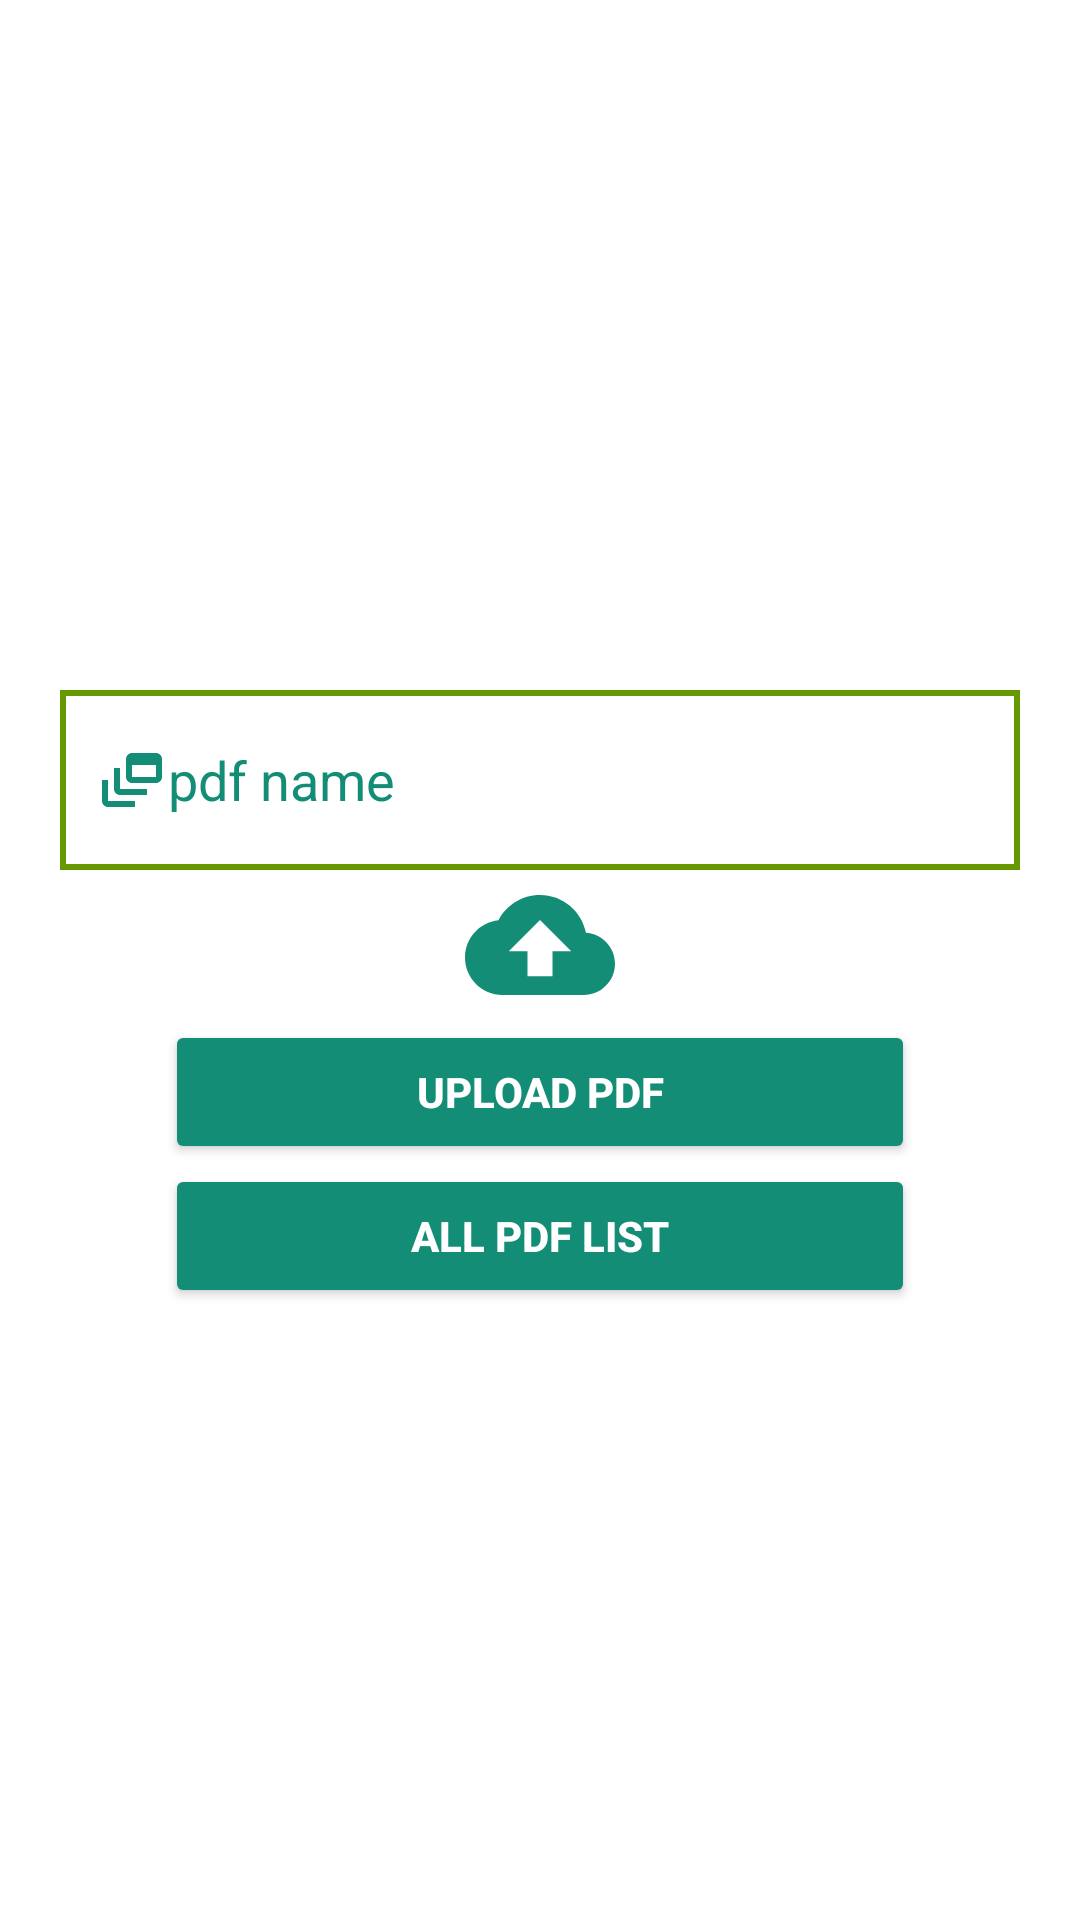

Icons on this 1080px×1920px Android screen, each with the point to tap as [x,y]:
cloud upload: [540,945]
